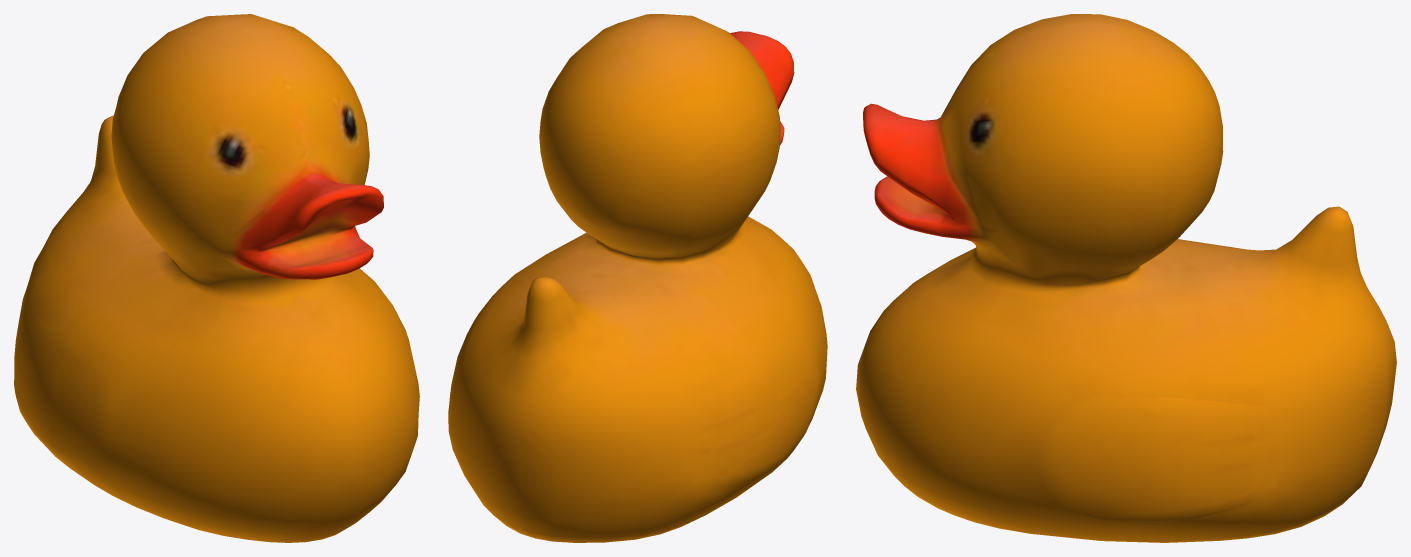
File: rubber_duck_toy_1k.glb
3 renders of one model, left to right at view 1: azimuth 30°, elevation 25°; view 2: azimuth 150°, elevation 25°; view 3: azimuth 270°, elevation 25°, orthographic. The views are drawn at different scales.
Visible parts, largest first — view 1: rubber_duck_toy; view 2: rubber_duck_toy; view 3: rubber_duck_toy.
Boxes of the visible parts, x1,y1,x2,y2 form: rubber_duck_toy: (14, 14, 419, 542); rubber_duck_toy: (448, 14, 827, 542); rubber_duck_toy: (856, 14, 1396, 542).
Bounding box in the file's own units: 0.2135 × 0.2852 × 0.3.
Materials: 1 (1 with a texture image).
